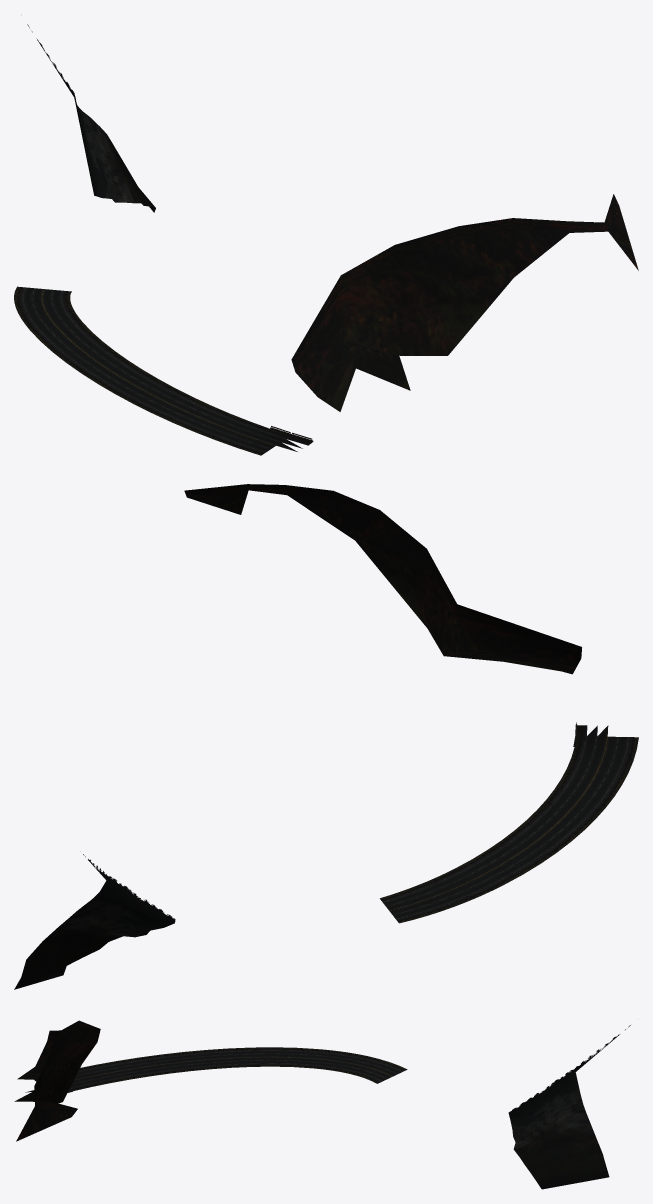
File: cell_-6_-11.gltf
The picture shows the model from 3 angles, top to bottom: view 1: azimuth 30°, elevation 25°; view 2: azimuth 150°, elevation 25°; view 3: azimuth 270°, elevation 25°; orthographic projection. The views are drawn at different scales.
Parts seen in each view (by area): view 1: cell_-6_-11; view 2: cell_-6_-11; view 3: cell_-6_-11.
Part boxes in pixels (<box>): cell_-6_-11: <box>14,24,638,455</box>; cell_-6_-11: <box>14,484,638,989</box>; cell_-6_-11: <box>14,1020,630,1189</box>.
Size of the model in its own units: 191 by 82.84 by 286.
8 materials, 8 textured.
